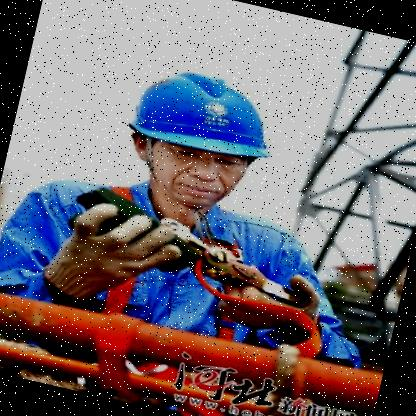capacete: (102, 55, 290, 226)
sem_colete_refletivo: (0, 159, 388, 398)
